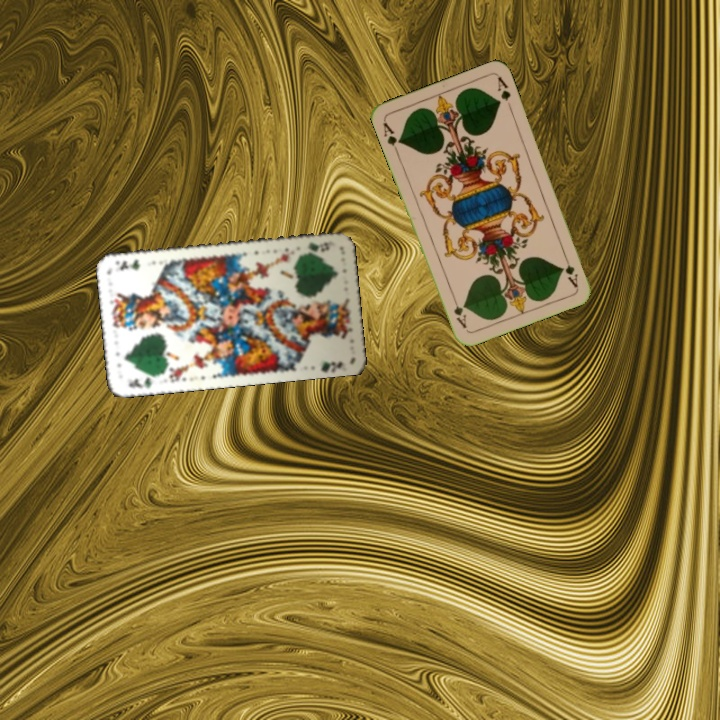GA: (379, 118, 404, 156), (560, 251, 581, 290)
GK: (125, 370, 162, 391), (303, 237, 337, 253)
